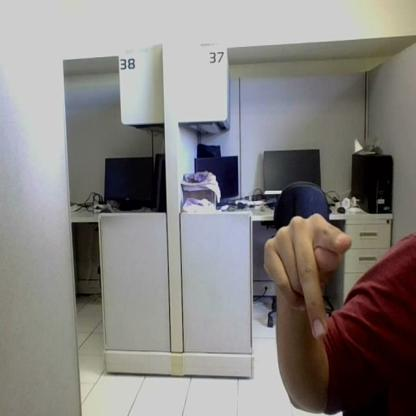P: (263, 214, 350, 337)
